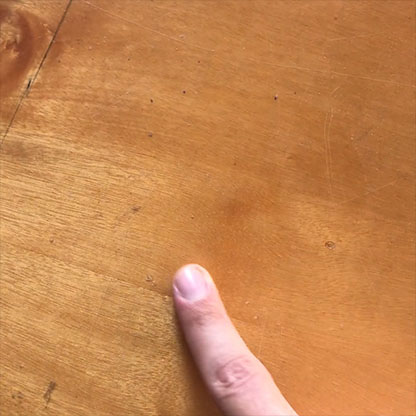fingertip: (163, 255, 243, 318)
